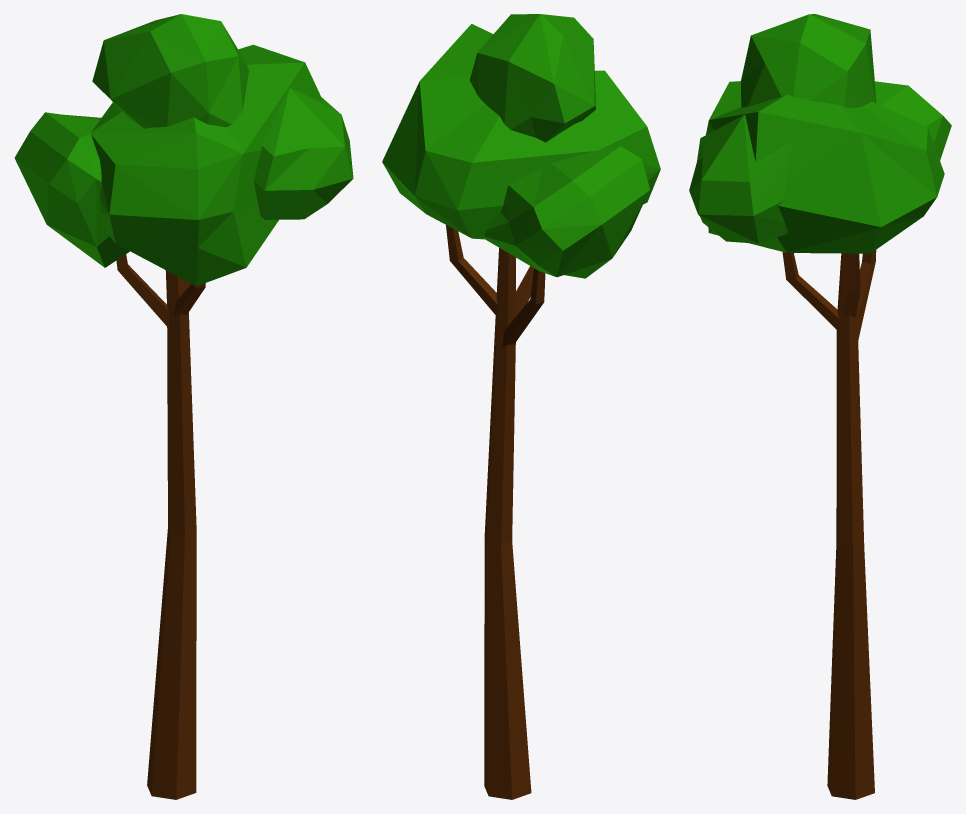
The model's file is Tree_temp_climate_013.FBX.
3 renders of one model, left to right at view 1: azimuth 30°, elevation 25°; view 2: azimuth 150°, elevation 25°; view 3: azimuth 270°, elevation 25°, orthographic. The views are drawn at different scales.
Parts seen in each view (by area): view 1: Tree_temp_climate_013; view 2: Tree_temp_climate_013; view 3: Tree_temp_climate_013.
Part boxes in pixels (left/top/right/bottom): Tree_temp_climate_013: left=14, top=14, right=353, bottom=799; Tree_temp_climate_013: left=382, top=14, right=660, bottom=799; Tree_temp_climate_013: left=689, top=14, right=951, bottom=799.
Size of the model in its own units: 225 by 648 by 200.
